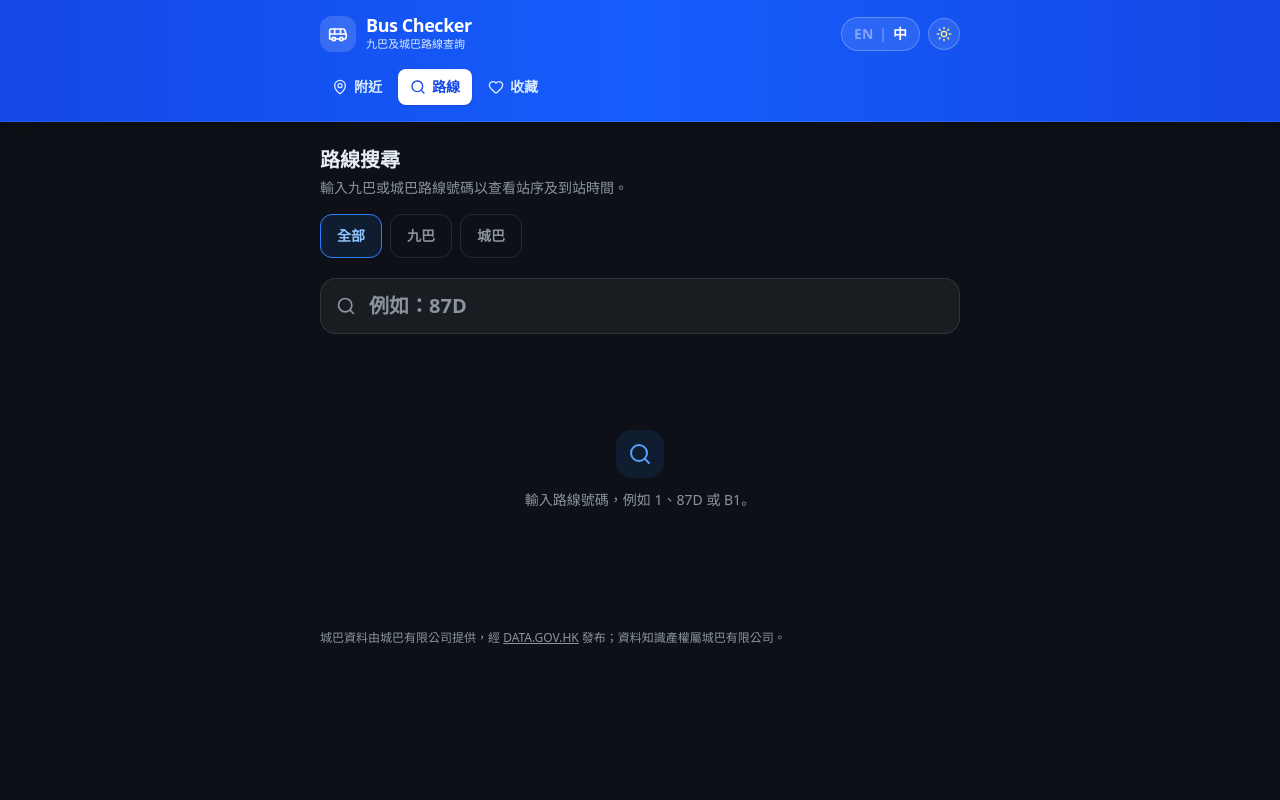
Test case: RouteSearchPage › debounces normalized route lookup and renders separate special-service variants
Type " 87 d " into the field named "搜尋路線號碼".
click(640, 306); type(" 87 d ")  # box [320,278,960,334]
Wait 180 ms
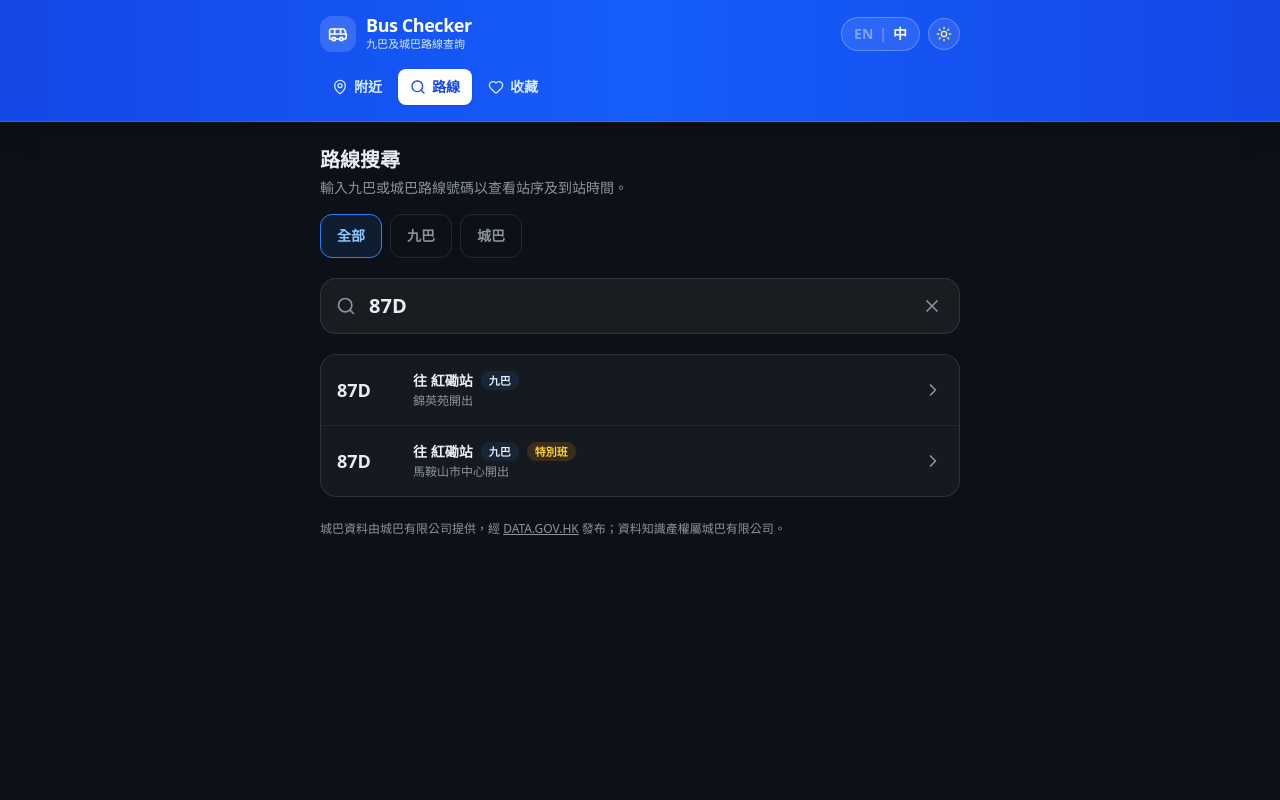
Expected: the text "87D" is shown 2 times, [337,378,371,402]; [337,448,371,472]
Expected: the text "特別班" is shown, [527,442,576,461]
Expected: the text "錦英苑開出" is shown, [413,392,473,408]
